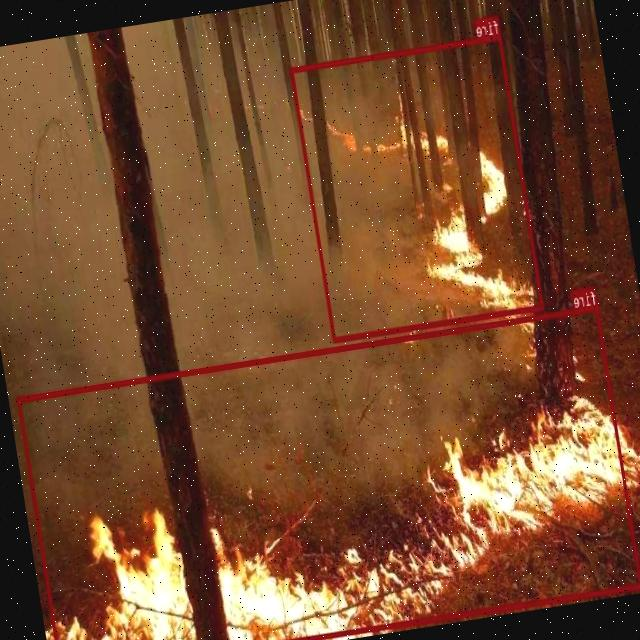fire: (17, 304, 640, 640), (290, 33, 544, 342)
